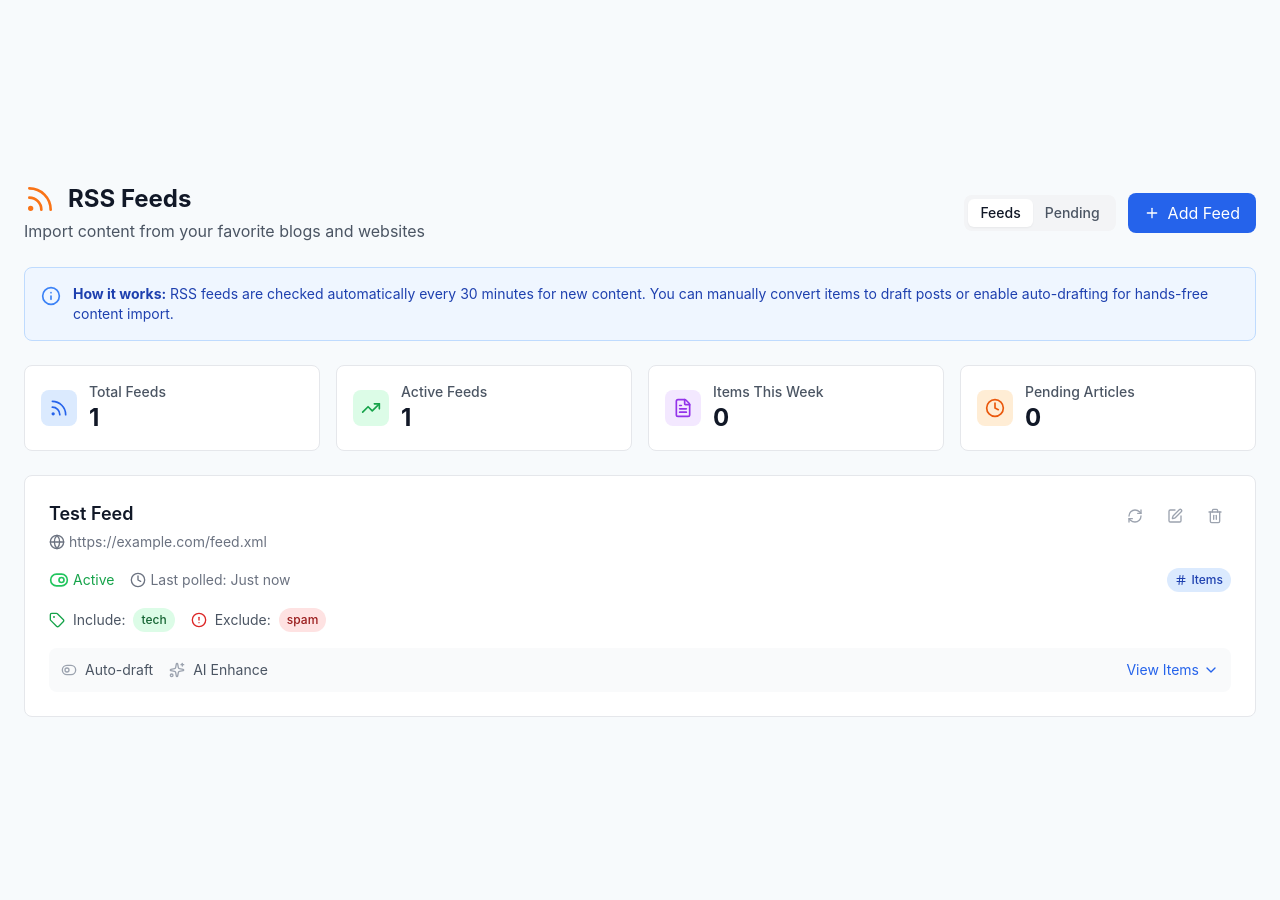
Test case: RSSPage › Edit Feed Modal › modal closes on successful save
expect the heading "Test Feed" is shown: met, box [49,503,133,524]
Open edit modal
Click the button titled "Edit feed": (1175, 516) [1159,500,1191,532]
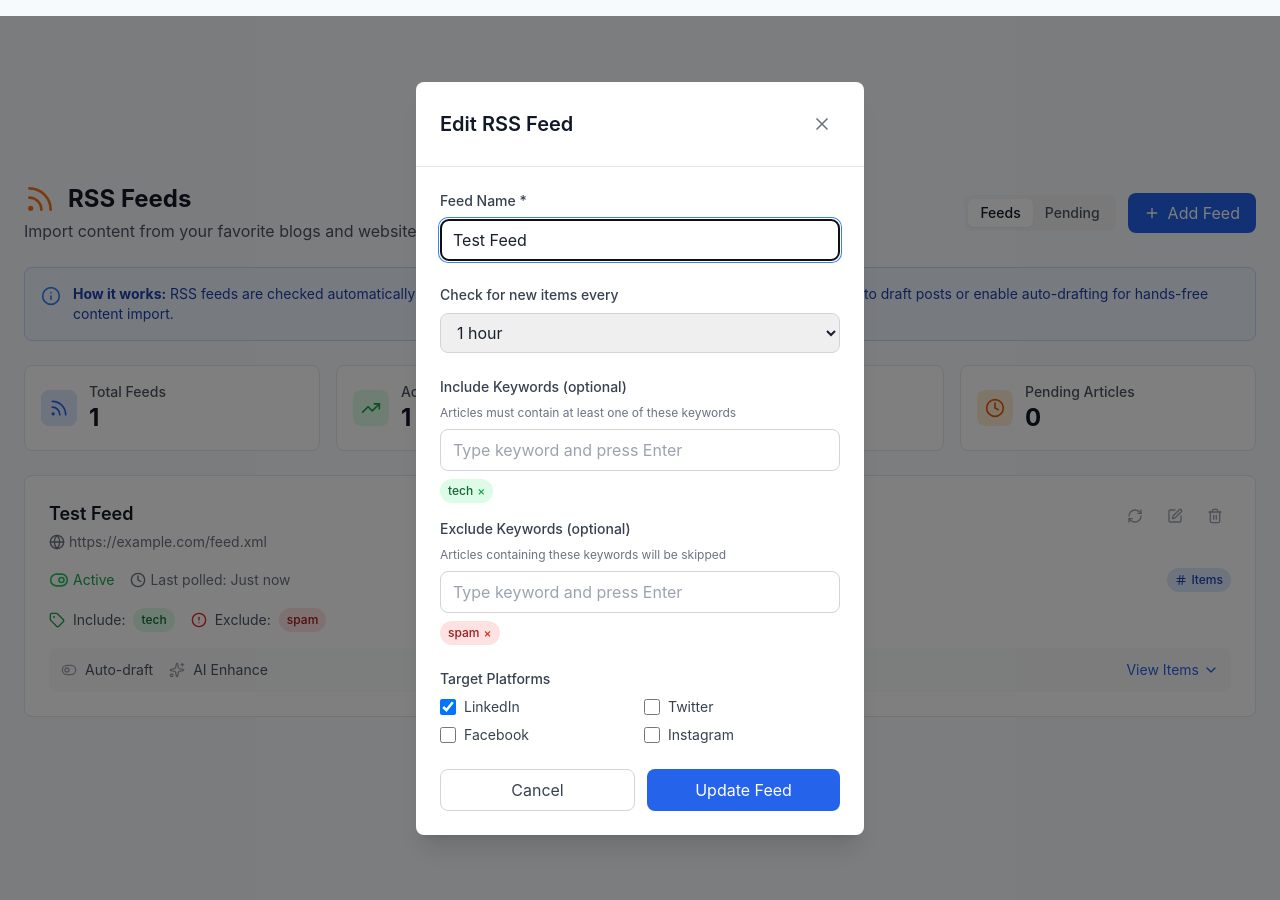
expect the heading "Edit RSS Feed" is shown: met, box [440,110,573,138]
Save changes
Click the button "Update Feed": (744, 790) [647,768,840,810]
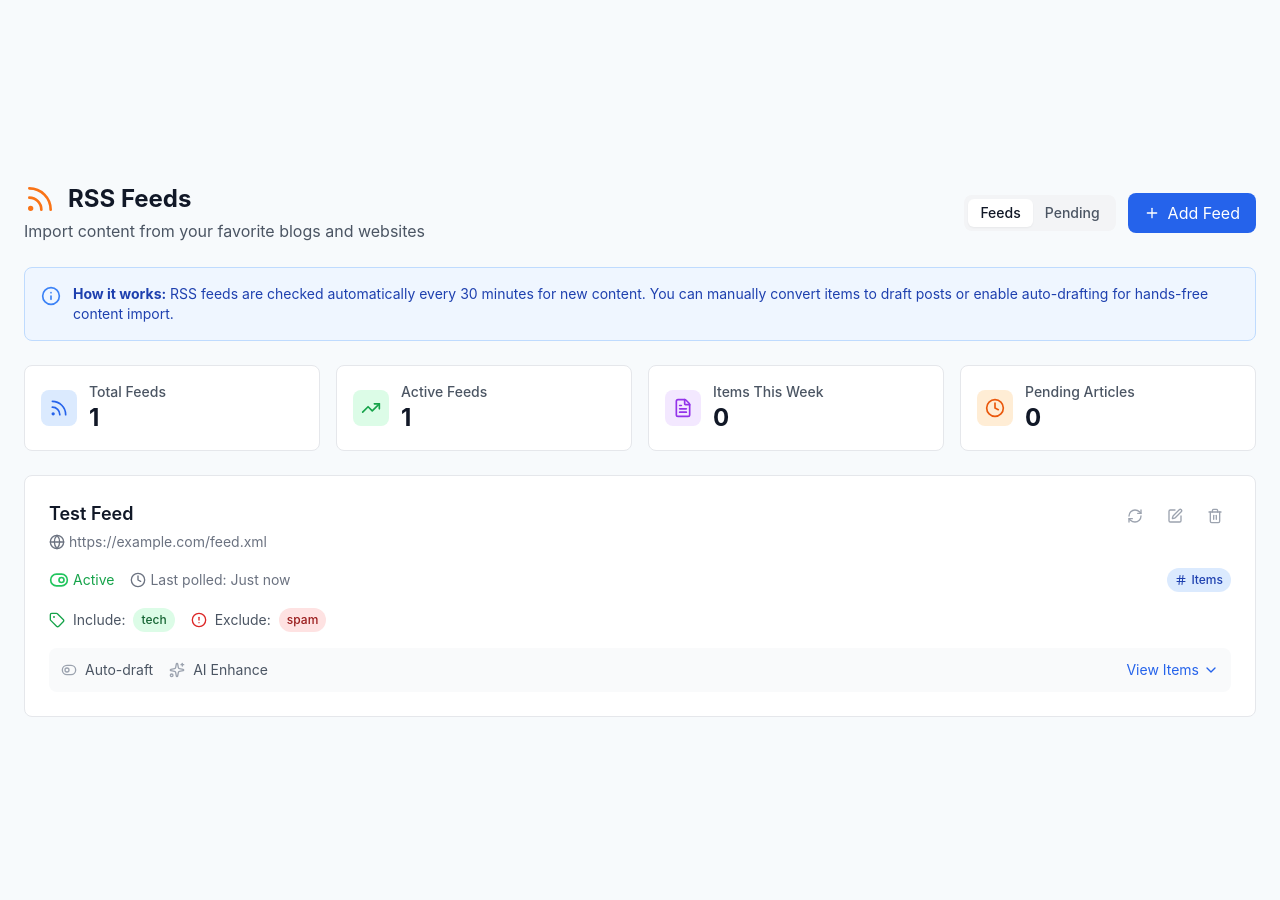
expect the heading "Edit RSS Feed" is gone: met
